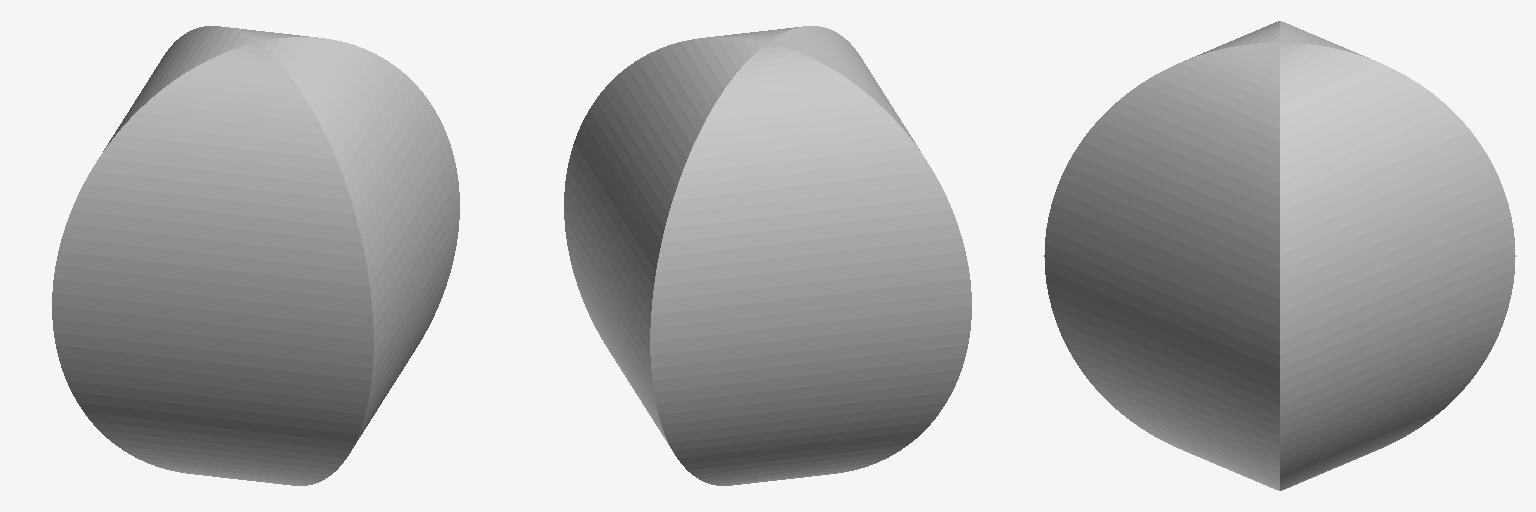
File: focon.obj
The picture shows the model from 3 angles: view 1: azimuth 30°, elevation 25°; view 2: azimuth 150°, elevation 25°; view 3: azimuth 270°, elevation 25°; orthographic projection.
Visible parts, largest first — view 1: Sphere; view 2: Sphere; view 3: Sphere.
Boxes of the visible parts, x1=… form: Sphere: x1=52, y1=26, x2=459, y2=485; Sphere: x1=564, y1=26, x2=971, y2=485; Sphere: x1=1044, y1=21, x2=1515, y2=490.
Size of the model in its own units: 0.6 by 0.6 by 0.6.